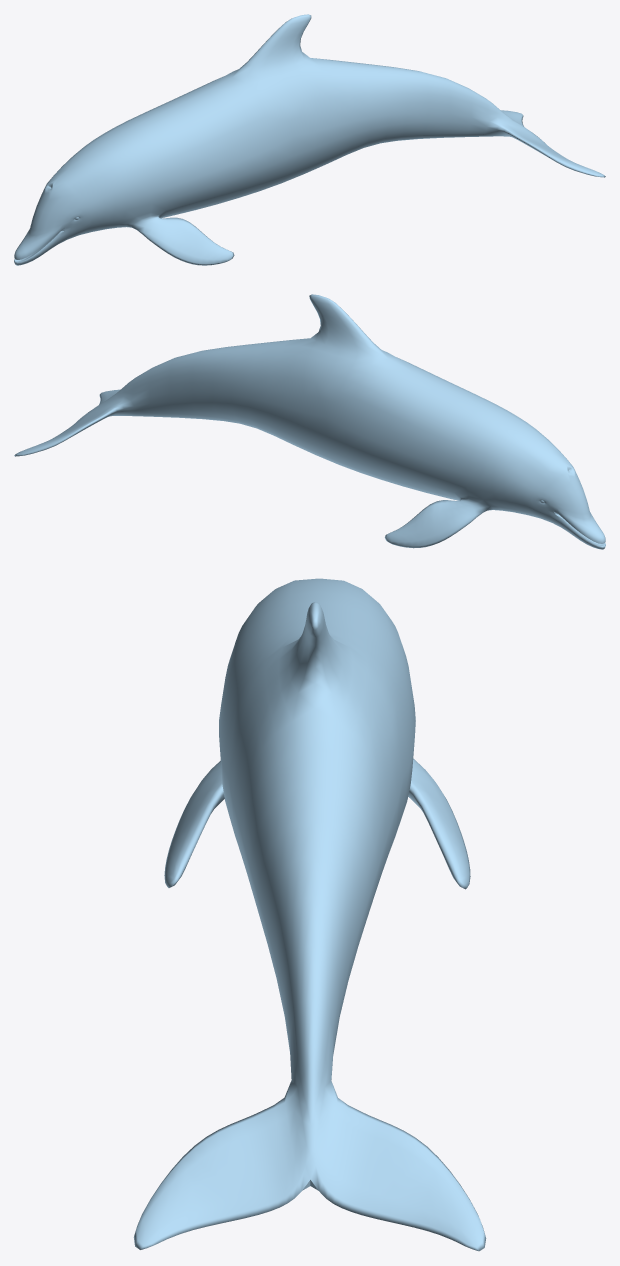
The model's file is delfinas.FBX.
3 views of the same model, one above another, from view 1: azimuth 30°, elevation 25°; view 2: azimuth 150°, elevation 25°; view 3: azimuth 270°, elevation 25° (orthographic). The views are drawn at different scales.
Visible parts, largest first — view 1: DOLPHIN01; view 2: DOLPHIN01; view 3: DOLPHIN01.
Boxes of the visible parts, x1,y1,x2,y2 form: DOLPHIN01: (14, 14, 605, 265); DOLPHIN01: (14, 294, 605, 549); DOLPHIN01: (133, 578, 486, 1251).
Size of what is drawn, in the model's own units: 43.93 by 14.81 by 12.25.
